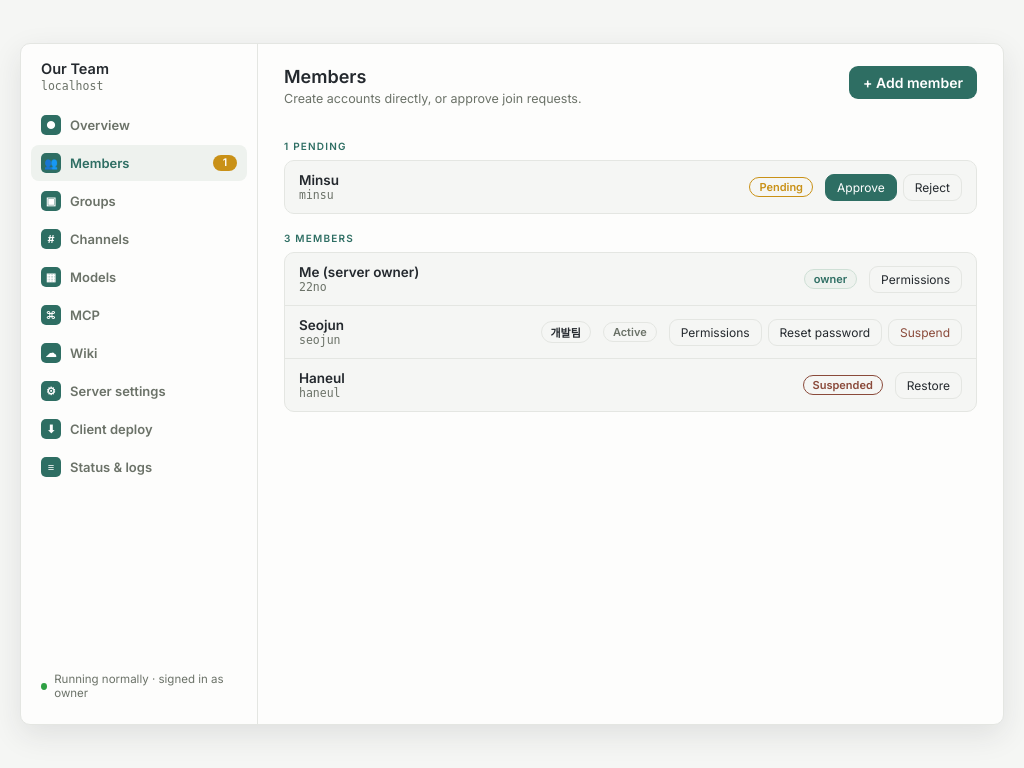
Test case: 권한 인라인 편집기: .perms가 .frow 조상 안에 있다(픽셀 리뷰 fix #3 — .frow .perms 스코프 CSS 적용)
expect the text "Seojun" is shown: met, box [299,317,344,333]
Click the button "Permissions" next to "Active": (715, 332) [669,318,762,346]
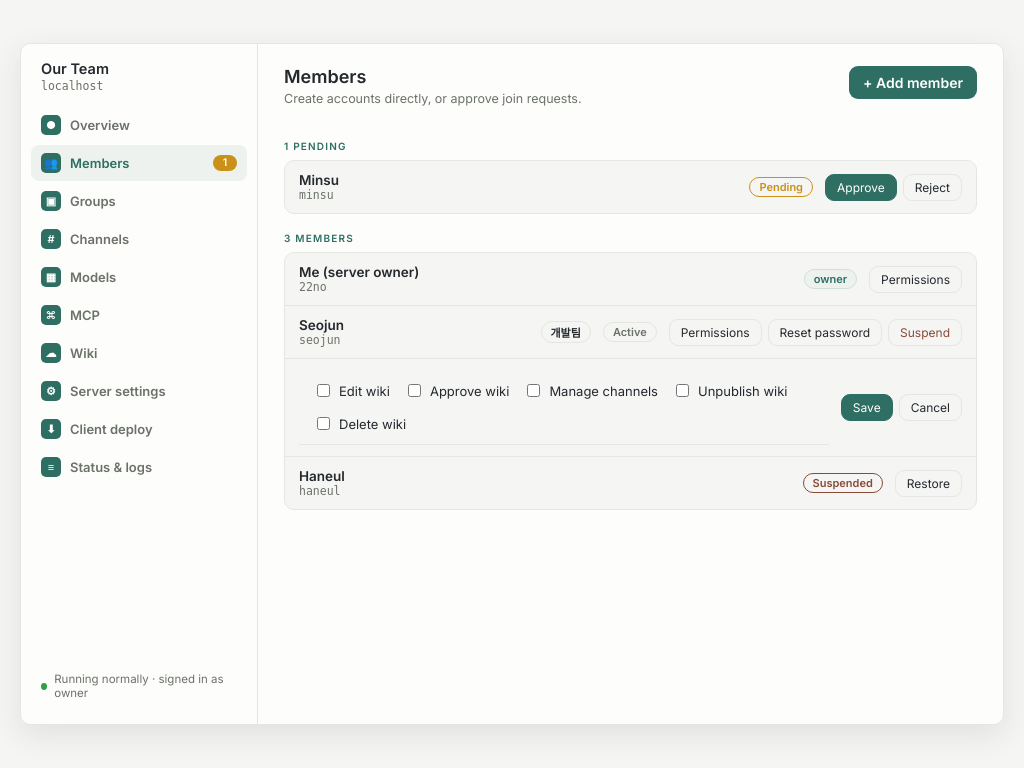
expect the text "Edit wiki" is shown: met, box [339,382,390,398]
